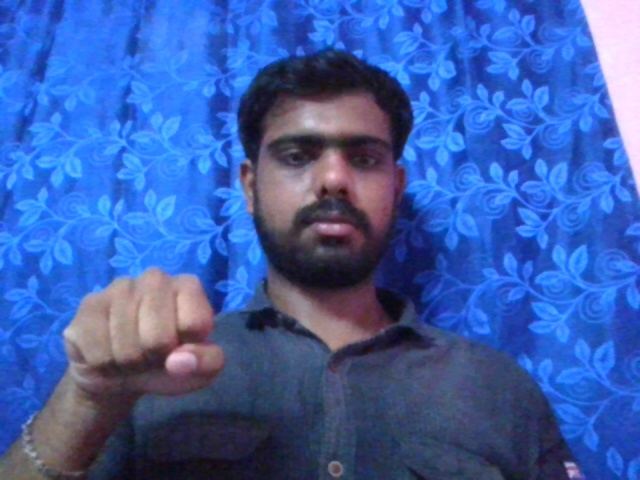Yes: (60, 265, 229, 410)
